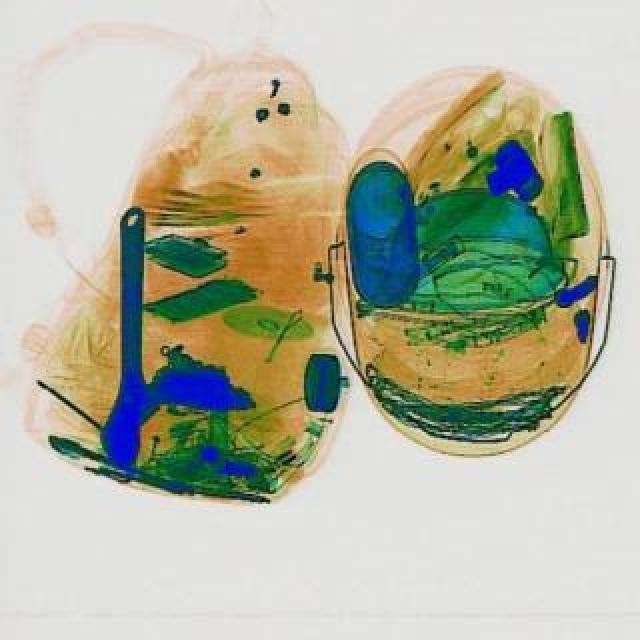scissors: (98, 204, 162, 468)
